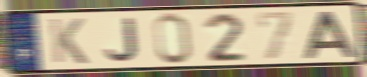0: (152, 11, 194, 67)
2: (202, 11, 248, 63)
7: (255, 10, 294, 62)
A: (302, 10, 359, 60)
J: (103, 16, 141, 63)
K: (47, 17, 90, 66)
